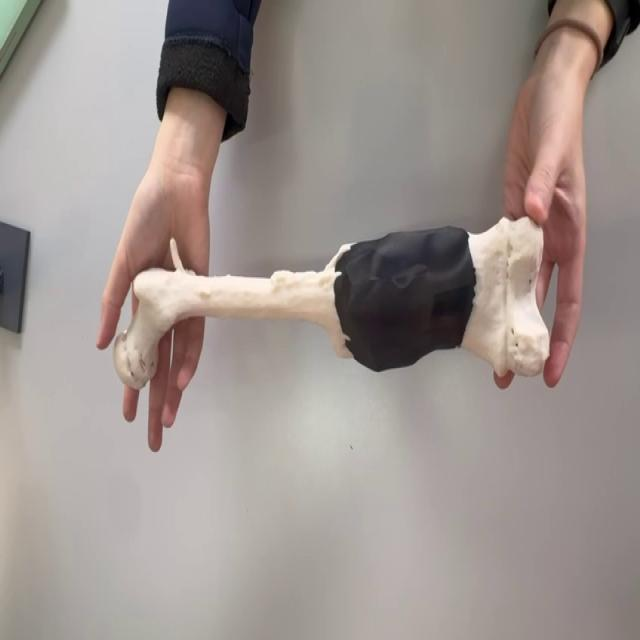bones: (114, 218, 549, 389)
